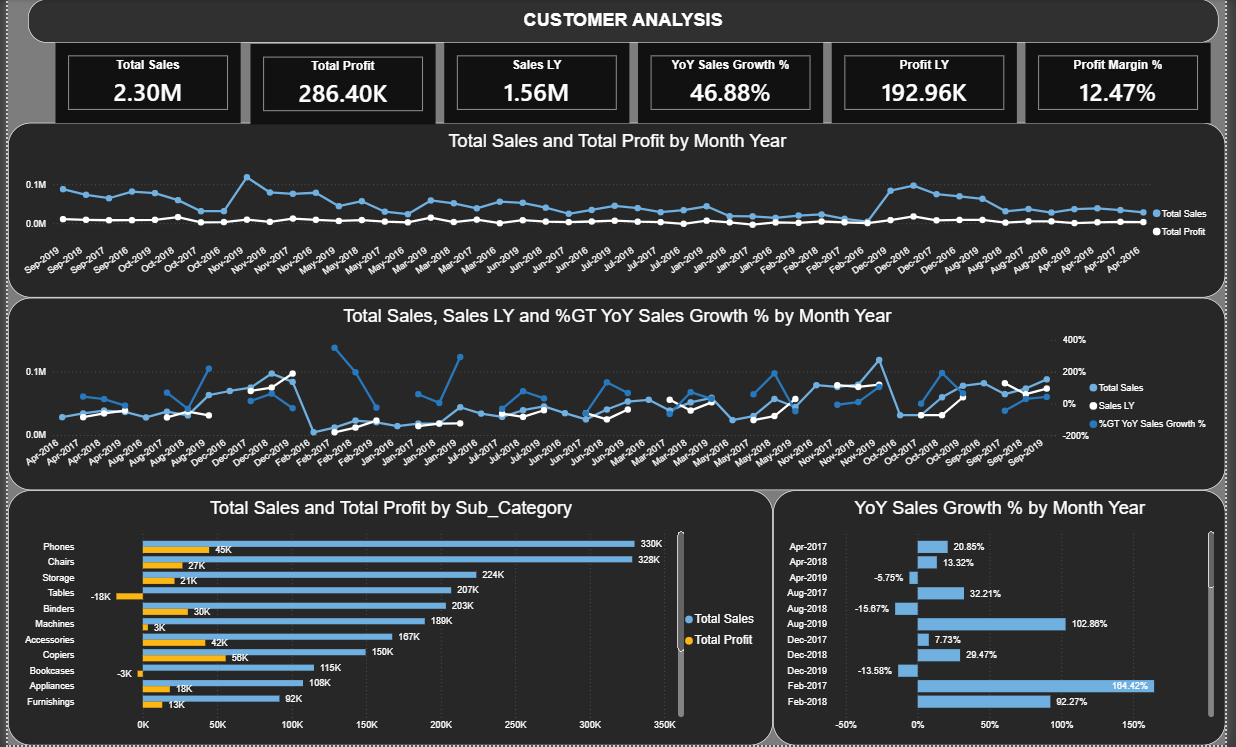

The dashboard page shown, as its layout file describes it:
{"tool":"powerbi","page":{"name":"TIME INTELLIGENCE DASHBOARD","canvas":[1600,980],"ordinal":3},"visuals":[{"type":"textbox","box":[26.8,0,1564.2,57.2],"z":0},{"type":"lineChart","fields":{"Y":["superstore_db superstore.Total Sales","superstore_db superstore.Total Profit"],"Category":["DateTable.Month Year"]},"box":[0,162.6,1599.4,229.9],"z":1000},{"type":"lineChart","fields":{"Category":["DateTable.Month Year"],"Y":["superstore_db superstore.Total Sales","superstore_db superstore.Sales LY"],"Y2":["Divide(superstore_db superstore.YoY Sales Growth %, ScopedEval(superstore_db superstore.YoY Sales Growth %, []))"]},"box":[0,392.5,1599.4,252.9],"z":2000},{"type":"barChart","fields":{"Category":["DateTable.Month Year"],"Y":["superstore_db superstore.YoY Sales Growth %"]},"box":[1005,645.3,594.4,335],"z":3000},{"type":"clusteredBarChart","fields":{"Y":["superstore_db superstore.Total Sales","superstore_db superstore.Total Profit"],"Category":["superstore_db superstore.Sub_Category"]},"box":[0,645.3,1005,335],"z":4000},{"type":"cardVisual","fields":{"Data":["superstore_db superstore.Total Sales"]},"box":[62.6,57.2,243.1,105.5],"z":5000},{"type":"cardVisual","fields":{"Data":["superstore_db superstore.Total Profit"]},"box":[318.2,59,243.1,105.5],"z":6000},{"type":"cardVisual","fields":{"Data":["superstore_db superstore.Sales LY"]},"box":[573.9,57.2,243.1,105.5],"z":7000},{"type":"cardVisual","fields":{"Data":["superstore_db superstore.YoY Sales Growth %"]},"box":[827.7,57.2,243.1,105.5],"z":8000},{"type":"cardVisual","fields":{"Data":["superstore_db superstore.Profit LY"]},"box":[1081.6,57.2,243.1,105.5],"z":9000},{"type":"cardVisual","fields":{"Data":["superstore_db superstore.Profit Margin %"]},"box":[1337.2,57.2,243.1,105.5],"z":10000}]}

Visuals, with their boxes in screenshot pixels (x1, y1, x2, y2), scaled from the page's 1600x980 canvas onto the 1236x747 screenshot:
textbox: <box>21,0,1229,44</box>
lineChart - superstore_db superstore.Total Sales x superstore_db superstore.Total Profit: <box>0,124,1235,299</box>
lineChart - DateTable.Month Year x superstore_db superstore.Total Sales: <box>0,299,1235,492</box>
barChart - DateTable.Month Year x superstore_db superstore.YoY Sales Growth %: <box>776,492,1235,746</box>
clusteredBarChart - superstore_db superstore.Total Sales x superstore_db superstore.Total Profit: <box>0,492,776,746</box>
cardVisual - superstore_db superstore.Total Sales: <box>48,44,236,124</box>
cardVisual - superstore_db superstore.Total Profit: <box>246,45,434,125</box>
cardVisual - superstore_db superstore.Sales LY: <box>443,44,631,124</box>
cardVisual - superstore_db superstore.YoY Sales Growth %: <box>639,44,827,124</box>
cardVisual - superstore_db superstore.Profit LY: <box>836,44,1023,124</box>
cardVisual - superstore_db superstore.Profit Margin %: <box>1033,44,1221,124</box>
